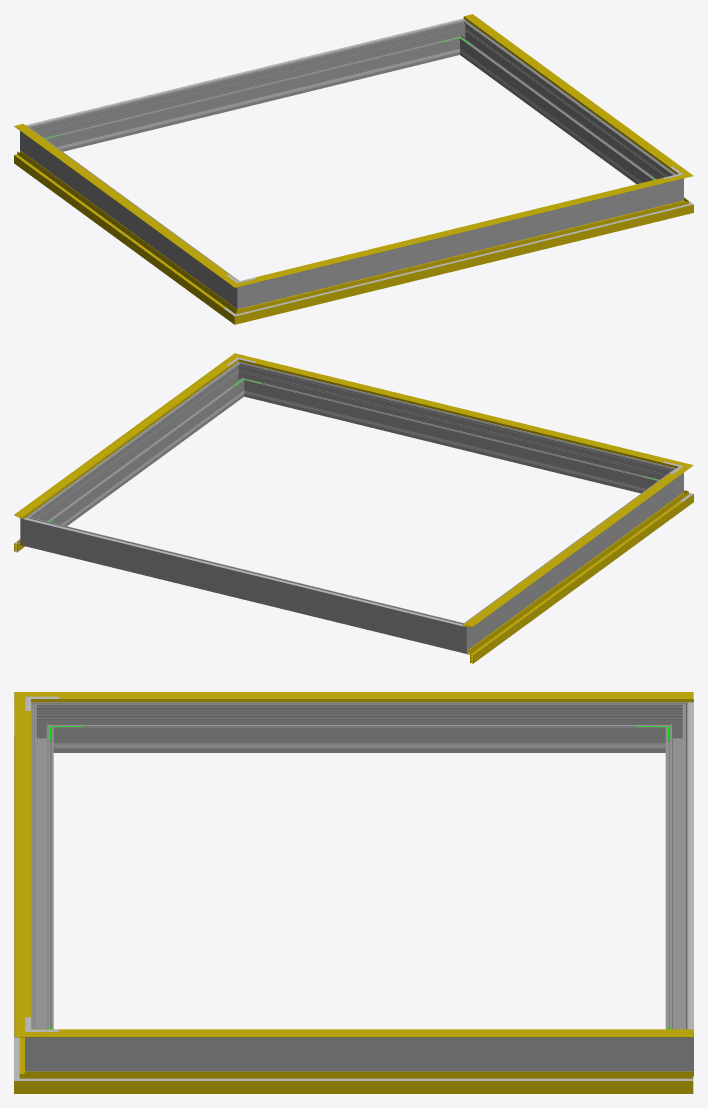
The picture shows the model from 3 angles, top to bottom: view 1: azimuth 30°, elevation 25°; view 2: azimuth 150°, elevation 25°; view 3: azimuth 270°, elevation 25°; orthographic projection. The views are drawn at different scales.
Parts seen in each view (by area): view 1: 3DGeom-276, 3DGeom-298, 3DGeom-297, 3DGeom-90, 3DGeom-268, 3DGeom-85, 3DGeom-145, 3DGeom-141, 3DGeom-147, 3DGeom-244, 3DGeom-220, 3DGeom-100 (+8 smaller); view 2: 3DGeom-298, 3DGeom-276, 3DGeom-297, 3DGeom-268, 3DGeom-85, 3DGeom-141, 3DGeom-145, 3DGeom-147, 3DGeom-239, 3DGeom-220, 3DGeom-158, 3DGeom-278 (+6 smaller); view 3: 3DGeom-268, 3DGeom-297, 3DGeom-97, 3DGeom-276, 3DGeom-298, 3DGeom-147, 3DGeom-145, 3DGeom-141, 3DGeom-232, 3DGeom-220, 3DGeom-98, 3DGeom-152 (+7 smaller).
Part boxes in pixels (<box>): 3DGeom-276: <box>41,23,456,151</box>; 3DGeom-298: <box>256,183,664,304</box>; 3DGeom-297: <box>461,26,669,184</box>; 3DGeom-90: <box>250,203,674,319</box>; 3DGeom-268: <box>31,133,231,300</box>; 3DGeom-85: <box>14,150,229,316</box>; 3DGeom-145: <box>463,14,681,171</box>; 3DGeom-141: <box>251,177,674,283</box>; 3DGeom-147: <box>14,124,229,279</box>; 3DGeom-244: <box>63,53,441,148</box>; 3DGeom-220: <box>26,18,464,126</box>; 3DGeom-100: <box>252,208,674,311</box>; 3DGeom-298: <box>247,365,662,493</box>; 3DGeom-276: <box>39,520,450,649</box>; 3DGeom-297: <box>34,368,242,525</box>; 3DGeom-268: <box>472,475,672,642</box>; 3DGeom-85: <box>467,497,682,663</box>; 3DGeom-141: <box>248,358,673,466</box>; 3DGeom-145: <box>14,361,232,518</box>; 3DGeom-147: <box>463,471,682,627</box>; 3DGeom-239: <box>262,395,640,489</box>; 3DGeom-220: <box>23,518,463,626</box>; 3DGeom-158: <box>255,362,664,462</box>; 3DGeom-278: <box>447,617,477,653</box>; 3DGeom-268: <box>59,702,659,752</box>; 3DGeom-297: <box>59,1037,659,1071</box>; 3DGeom-97: <box>48,1071,693,1093</box>; 3DGeom-276: <box>665,714,688,1029</box>; 3DGeom-298: <box>31,714,53,1029</box>; 3DGeom-147: <box>48,692,693,702</box>; 3DGeom-145: <box>48,1029,693,1037</box>; 3DGeom-141: <box>14,706,25,1021</box>; 3DGeom-232: <box>86,743,632,748</box>; 3DGeom-220: <box>688,702,693,1032</box>; 3DGeom-98: <box>48,1078,693,1080</box>; 3DGeom-152: <box>59,1029,693,1031</box>.
Size of the model in its own units: 3.66 by 0.2829 by 3.05.
